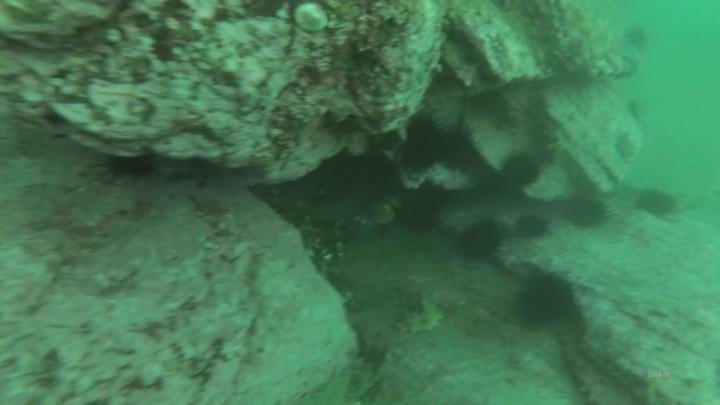echinus: (525, 282, 570, 326), (406, 189, 445, 230), (412, 121, 446, 165), (465, 223, 503, 258), (502, 152, 540, 184), (446, 128, 474, 166), (565, 202, 605, 227), (642, 190, 671, 216), (523, 219, 547, 237)
holothurian: (397, 298, 444, 335)
